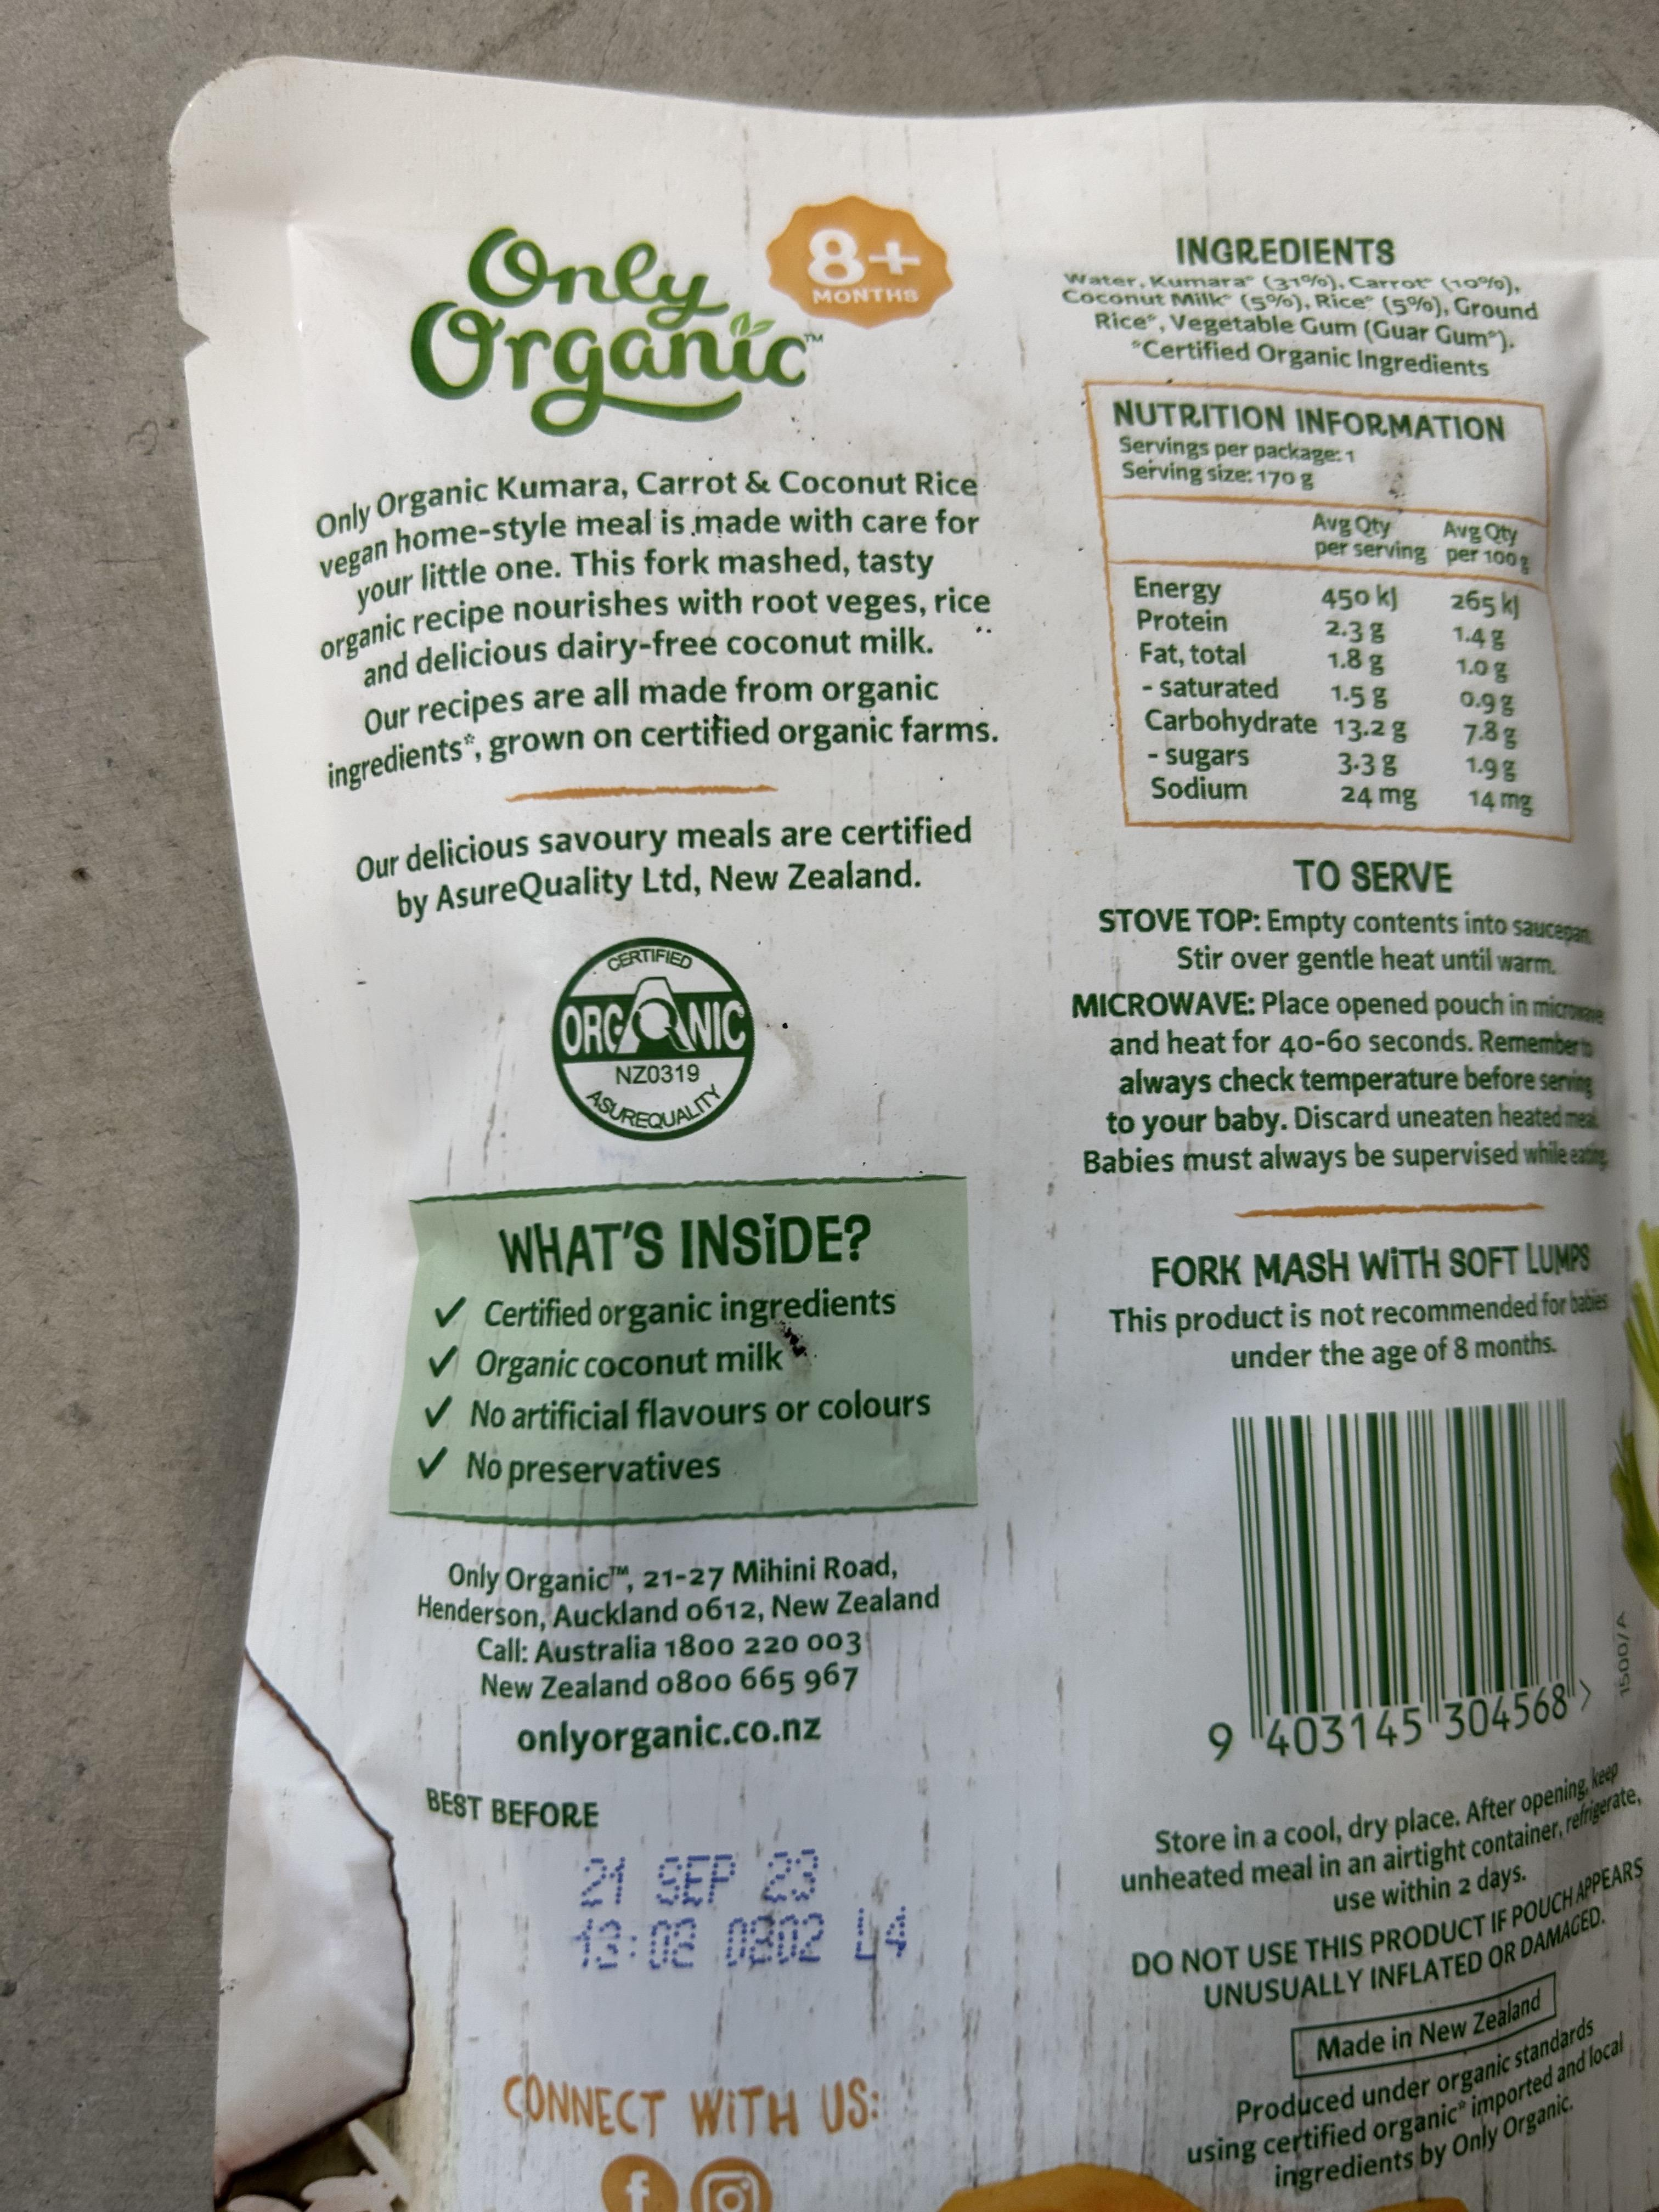object_name: (263, 115, 1659, 2212)
